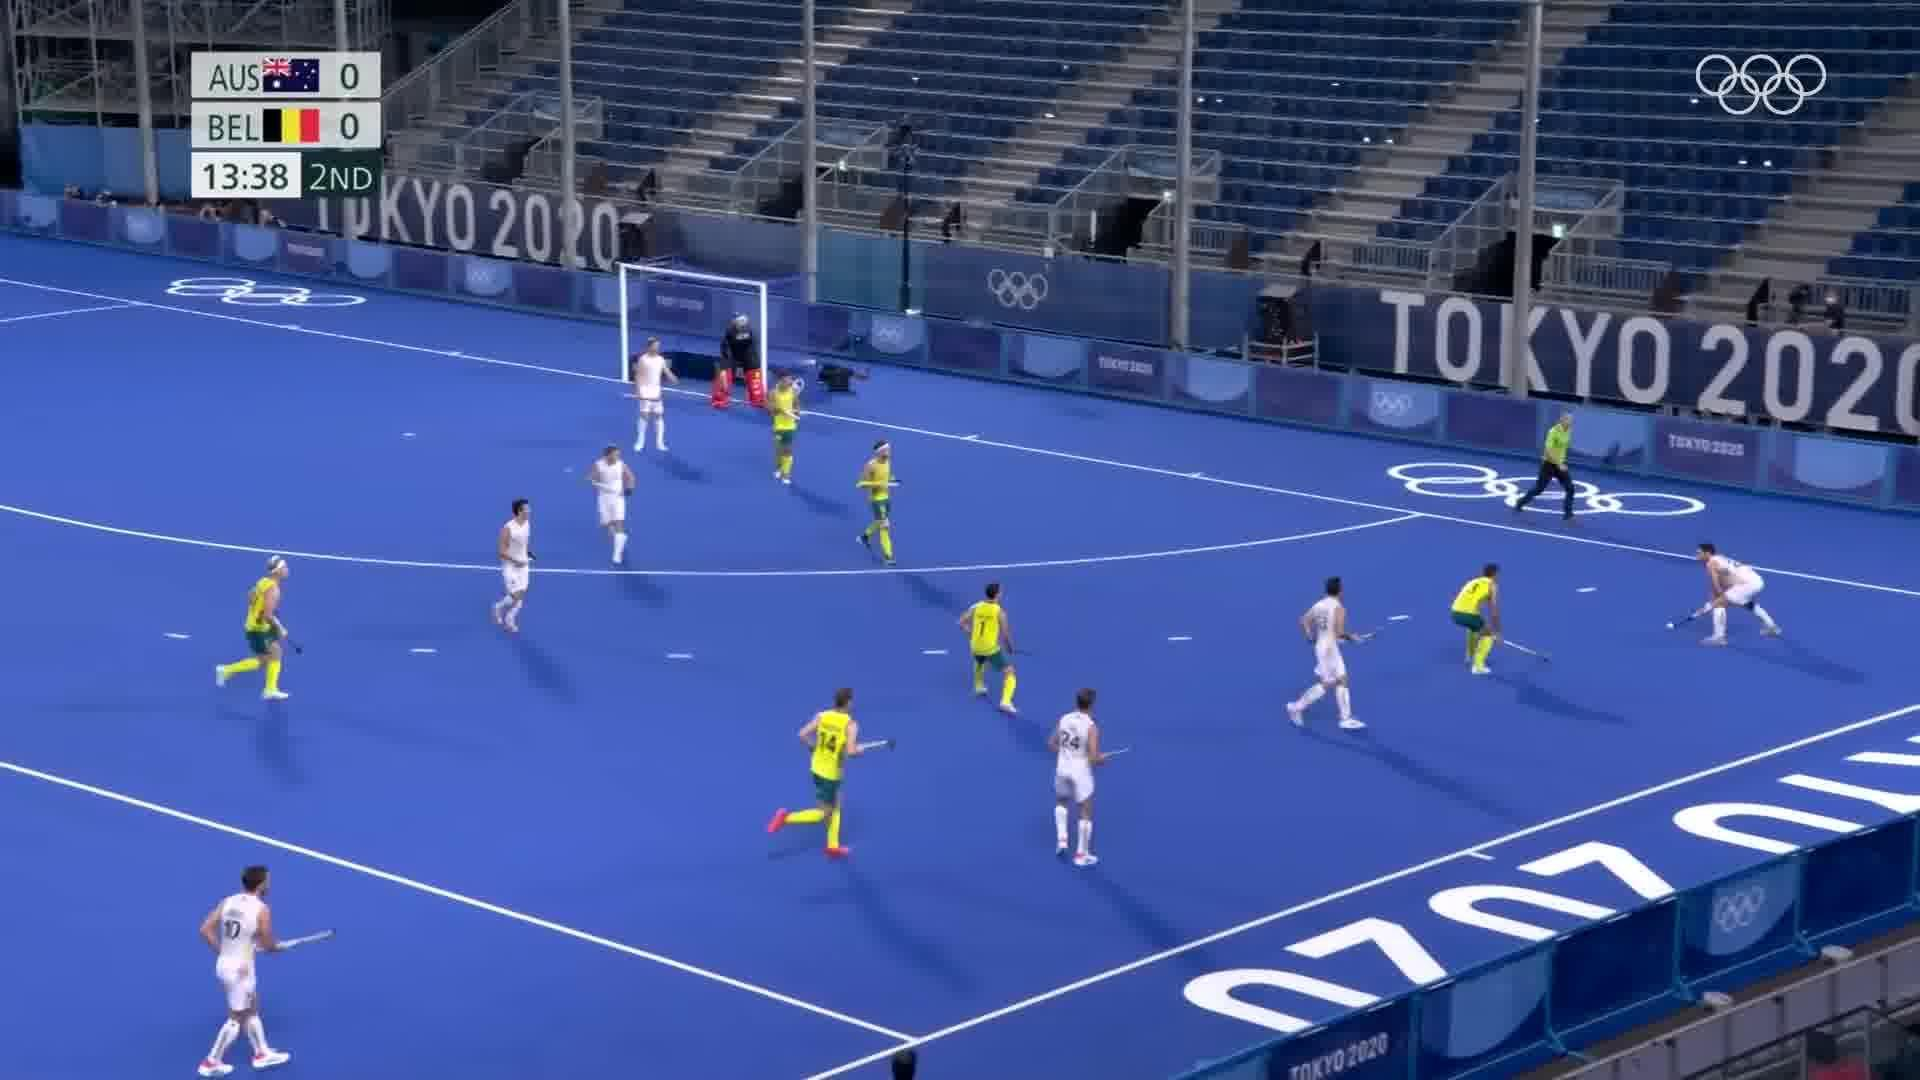ball: (1662, 620, 1681, 634)
